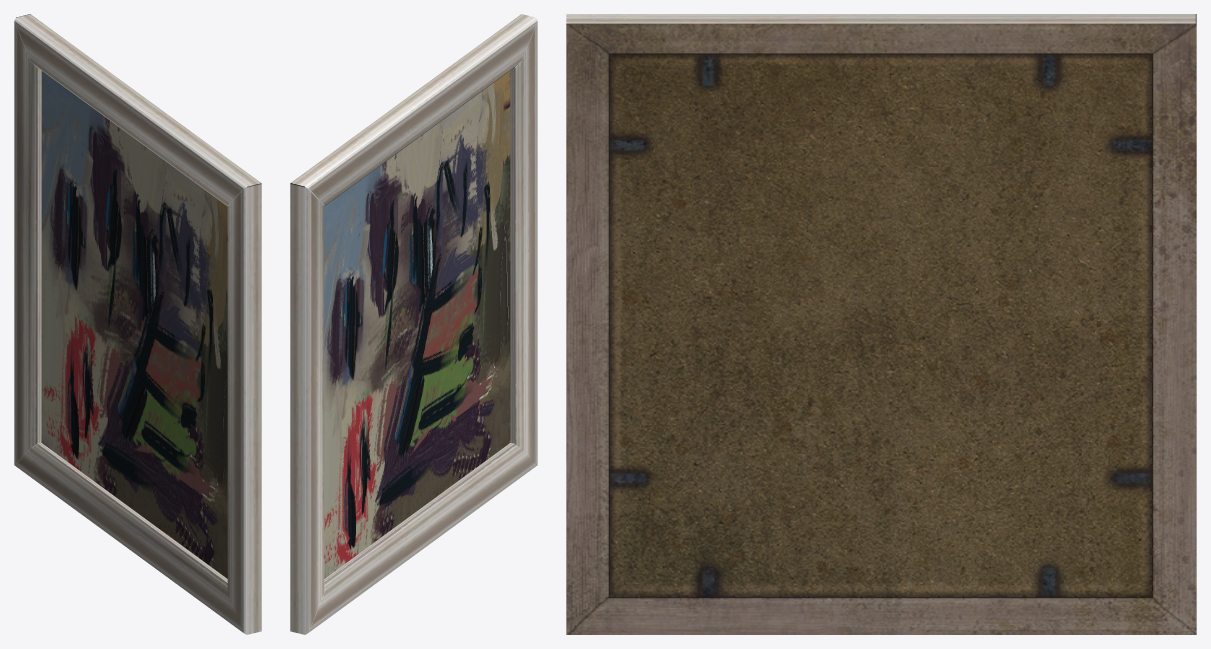
File: painting_kitsch_04_wau.dae
3 renders of one model, left to right at view 1: azimuth 30°, elevation 25°; view 2: azimuth 150°, elevation 25°; view 3: azimuth 270°, elevation 25°, orthographic. The views are drawn at different scales.
Parts seen in each view (by area): view 1: painting_kitsch_04_Mesh; view 2: painting_kitsch_04_Mesh; view 3: painting_kitsch_04_Mesh.
Part boxes in pixels (bbox=[...]): painting_kitsch_04_Mesh: bbox=[14, 14, 261, 634]; painting_kitsch_04_Mesh: bbox=[290, 14, 537, 634]; painting_kitsch_04_Mesh: bbox=[566, 14, 1196, 634].
Bounding box in the file's own units: 5.36 × 134 × 125.
